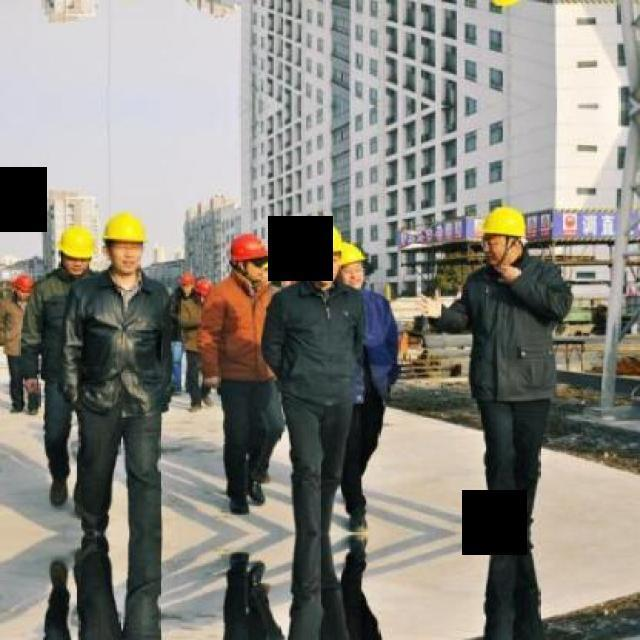red helmet: (230, 233, 268, 265), (14, 277, 33, 296), (197, 277, 212, 297), (179, 273, 194, 289)
yellow helmet: (481, 204, 531, 240), (104, 209, 150, 244), (333, 238, 372, 276), (59, 225, 96, 265)
